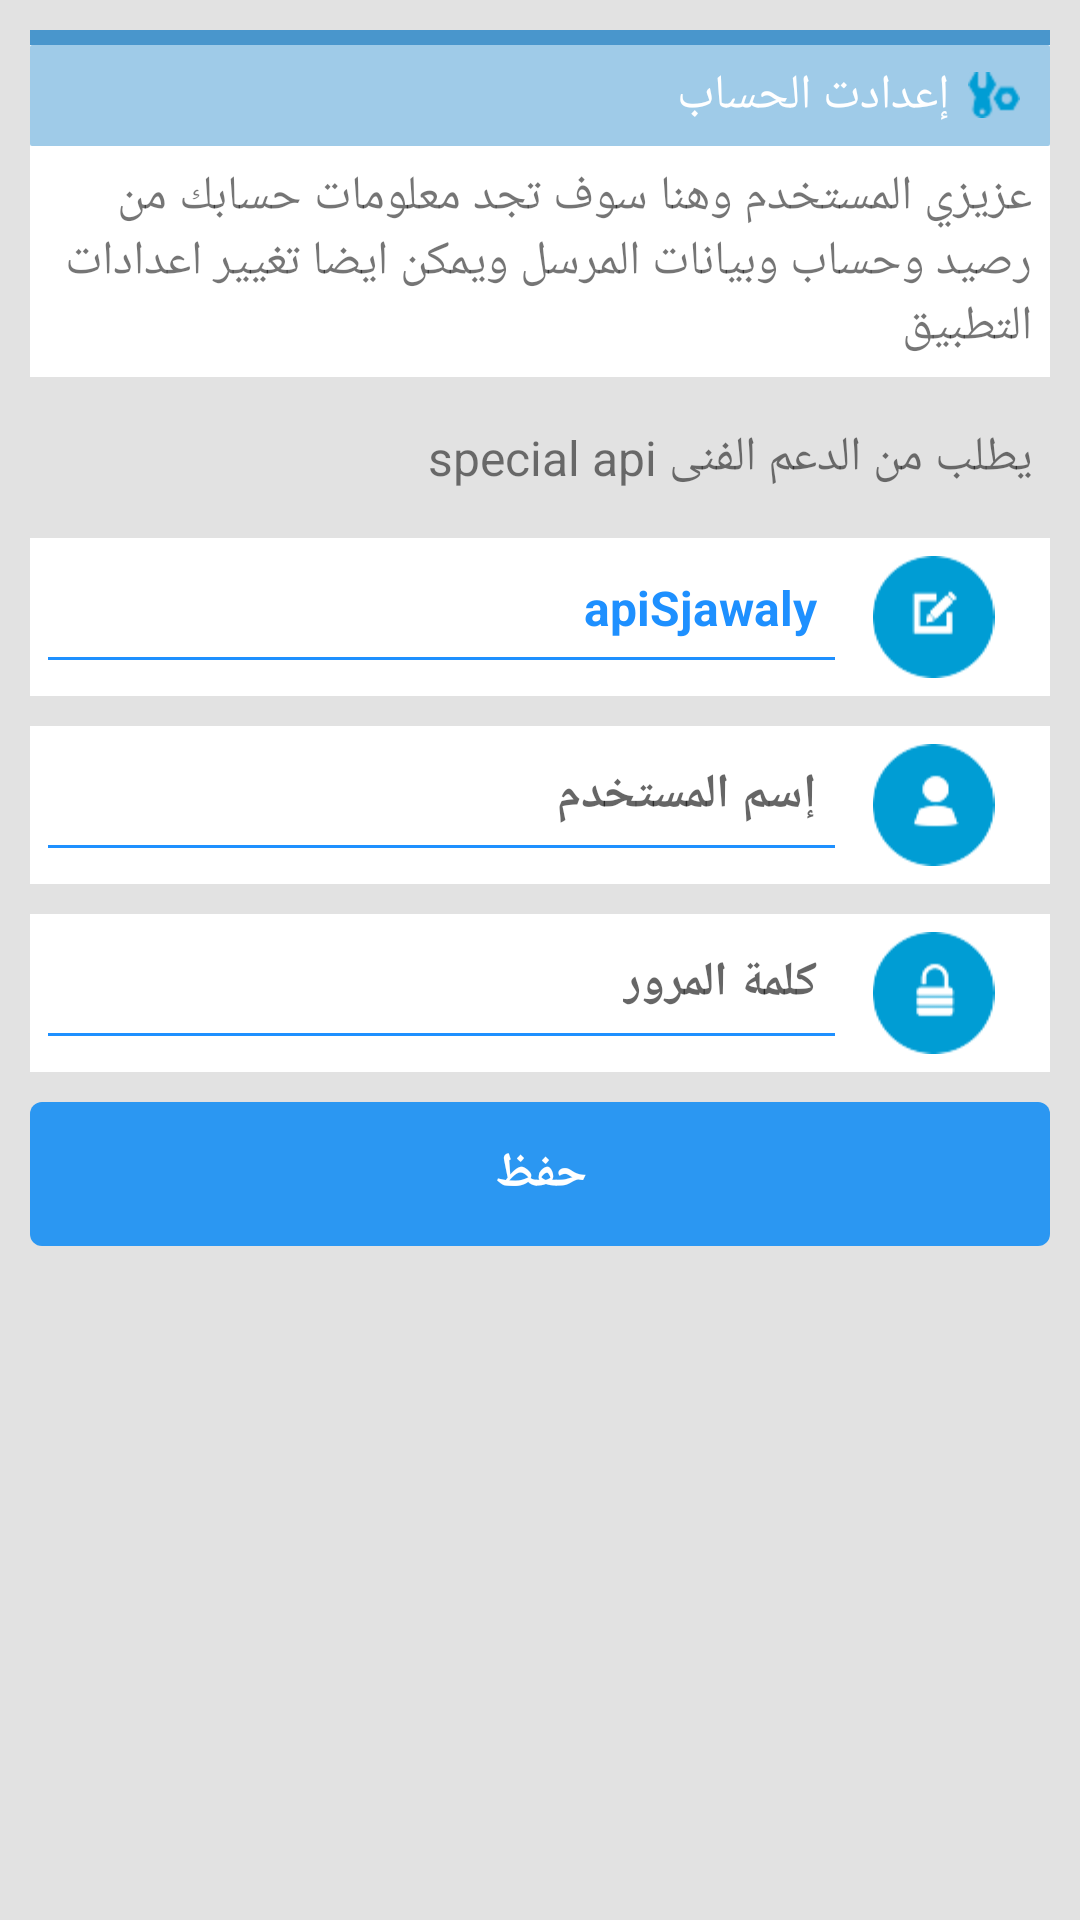

Screen size 1080px x 1920px. Icon name, then its box in pixels as (x1,y1,x2,y2):
username: (873,744,995,866)
